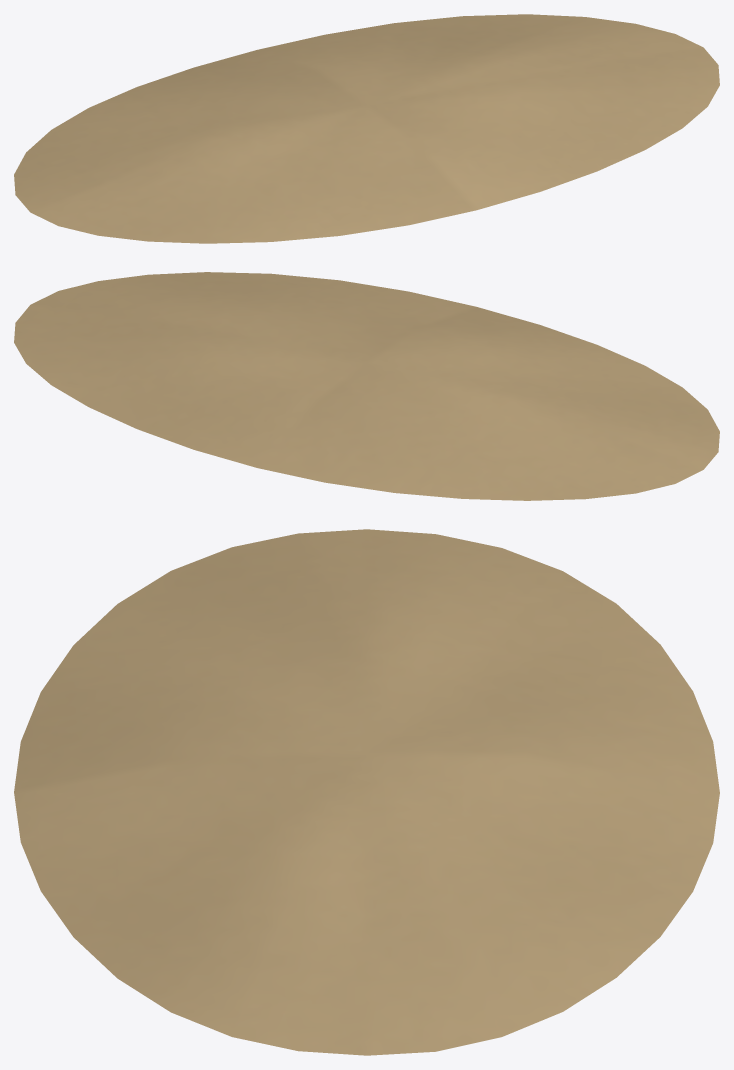
Rendered from Sand_Drift_1.glb.
3 views of the same model, one above another, from view 1: azimuth 30°, elevation 25°; view 2: azimuth 150°, elevation 25°; view 3: azimuth 270°, elevation 25° (orthographic). The views are drawn at different scales.
Parts seen in each view (by area): view 1: Sand_Drift_1; view 2: Sand_Drift_1; view 3: Sand_Drift_1.
Boxes of the visible parts, x1,y1,x2,y2 form: Sand_Drift_1: (14,14,719,243); Sand_Drift_1: (14,272,719,500); Sand_Drift_1: (14,529,719,1055).
Size of the model in its own units: 4.6 by 0.1598 by 2.6.
1 material, 1 textured.
